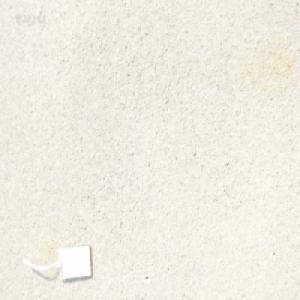LuggageTag: (23, 241, 90, 284)
